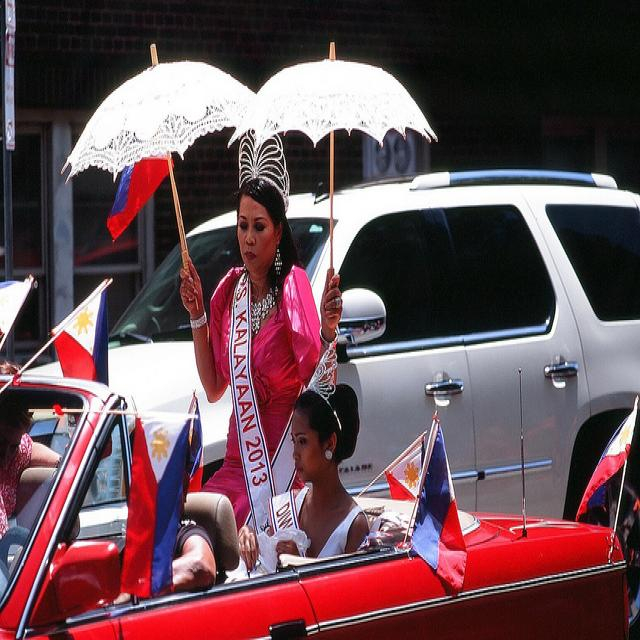Vehicle: (25, 167, 640, 624), (0, 378, 629, 640)
